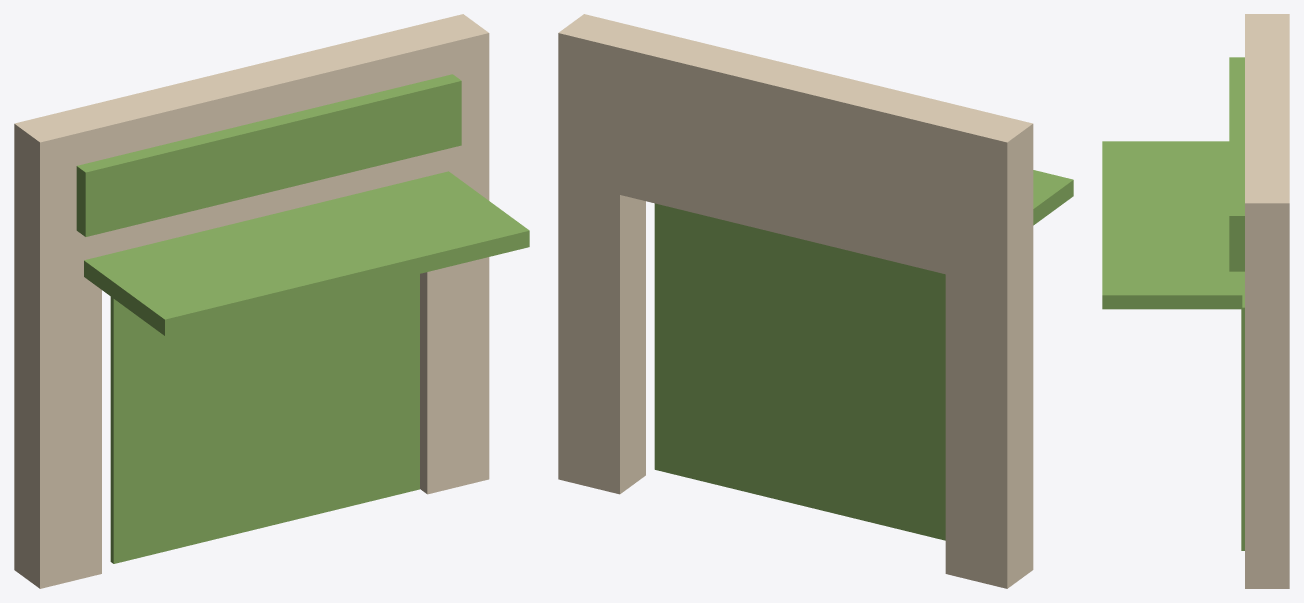
File: bh_souq_shop_electronics_01_lod0.glb
3 renders of one model, left to right at view 1: azimuth 30°, elevation 25°; view 2: azimuth 150°, elevation 25°; view 3: azimuth 270°, elevation 25°, orthographic. The views are drawn at different scales.
Visible parts, largest first — view 1: bh_souq_shop_electronics_01_infill, bh_souq_shop_electronics_01_left, bh_souq_shop_electronics_01_awning, bh_souq_shop_electronics_01_fascia, bh_souq_shop_electronics_01_top, bh_souq_shop_electronics_01_right; view 2: bh_souq_shop_electronics_01_infill, bh_souq_shop_electronics_01_top, bh_souq_shop_electronics_01_left, bh_souq_shop_electronics_01_right, bh_souq_shop_electronics_01_awning; view 3: bh_souq_shop_electronics_01_awning, bh_souq_shop_electronics_01_right, bh_souq_shop_electronics_01_top, bh_souq_shop_electronics_01_fascia, bh_souq_shop_electronics_01_left, bh_souq_shop_electronics_01_infill.
Part boxes in pixels (box(x1,y1,x2,y2)): bh_souq_shop_electronics_01_infill: box(110, 274, 419, 563); bh_souq_shop_electronics_01_left: box(14, 108, 101, 588); bh_souq_shop_electronics_01_awning: box(84, 171, 529, 335); bh_souq_shop_electronics_01_fascia: box(76, 74, 461, 236); bh_souq_shop_electronics_01_top: box(76, 29, 427, 255); bh_souq_shop_electronics_01_right: box(402, 14, 489, 494); bh_souq_shop_electronics_01_infill: box(654, 203, 945, 540); bh_souq_shop_electronics_01_top: box(620, 29, 970, 274); bh_souq_shop_electronics_01_left: box(945, 108, 1033, 588); bh_souq_shop_electronics_01_right: box(558, 14, 645, 494); bh_souq_shop_electronics_01_awning: box(1033, 170, 1073, 225); bh_souq_shop_electronics_01_awning: box(1102, 141, 1242, 309); bh_souq_shop_electronics_01_right: box(1245, 177, 1289, 588); bh_souq_shop_electronics_01_top: box(1245, 40, 1289, 177); bh_souq_shop_electronics_01_fascia: box(1229, 57, 1244, 271); bh_souq_shop_electronics_01_left: box(1245, 14, 1289, 39); bh_souq_shop_electronics_01_infill: box(1241, 271, 1244, 550).
Bounding box in the file's own units: 4 × 3.8 × 1.68.
